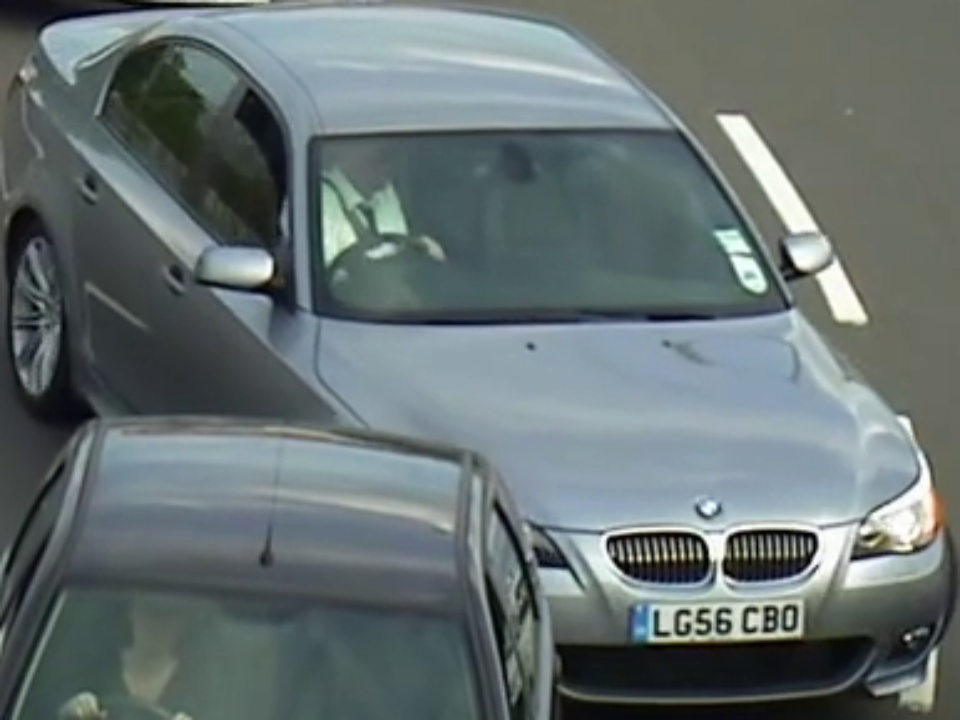ONE: (297, 137, 751, 318)
